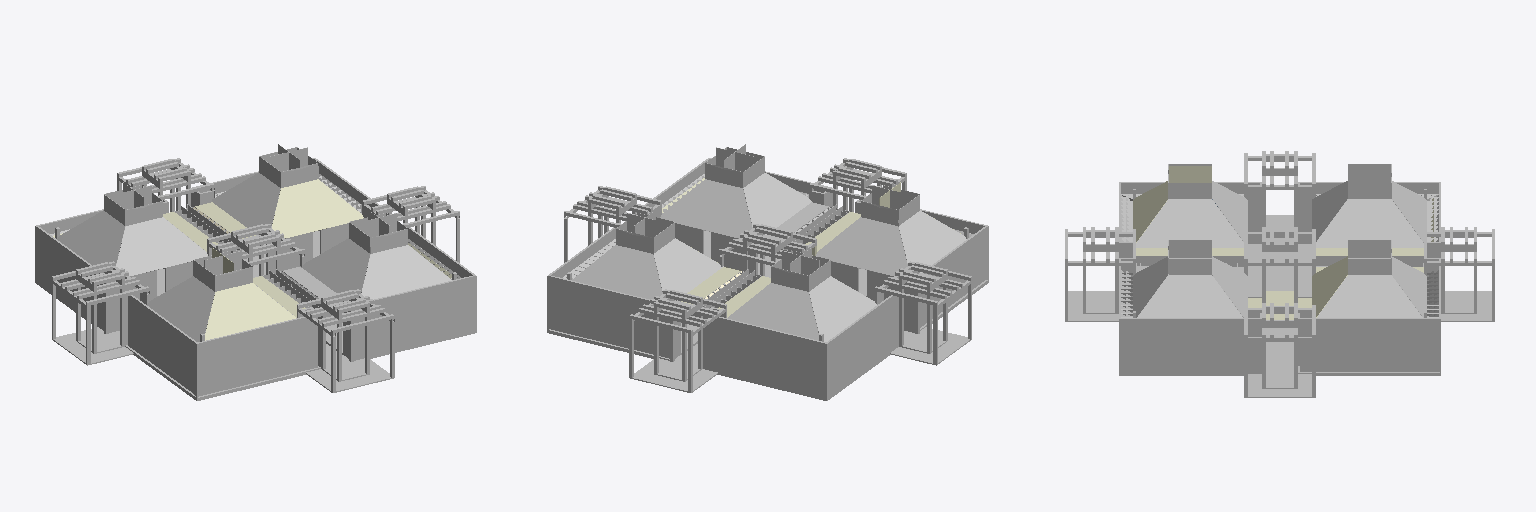
Rendered from lu_museum_remesh_19239.obj.
3 renders of one model, left to right at view 1: azimuth 30°, elevation 25°; view 2: azimuth 150°, elevation 25°; view 3: azimuth 270°, elevation 25°, orthographic.
Size of the model in its own units: 118 by 31.58 by 118.